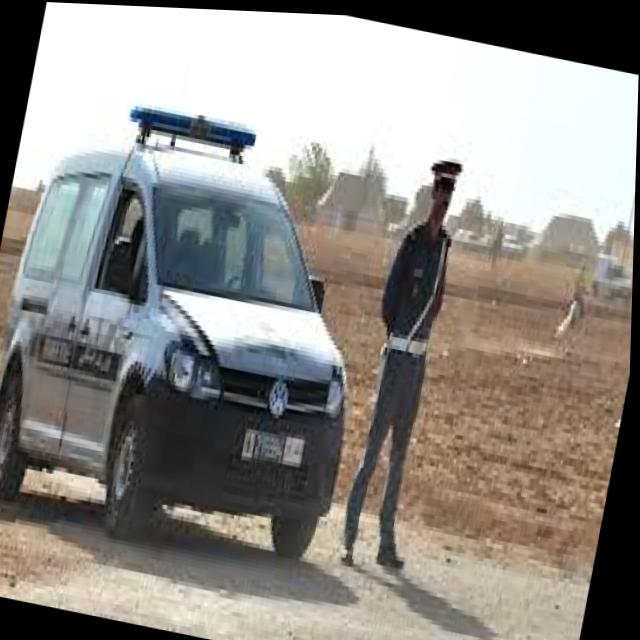gendarme car: (0, 70, 407, 575)
